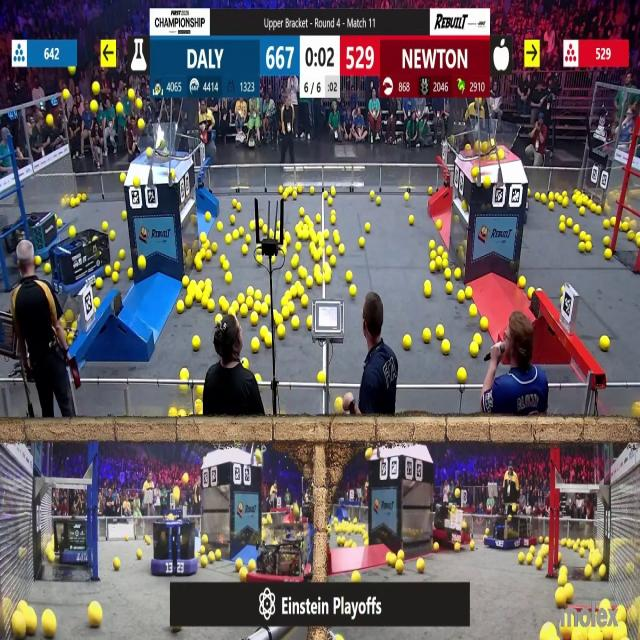ball_airborne: (482, 141, 492, 154), (173, 488, 180, 504), (93, 83, 101, 96), (92, 102, 99, 114), (63, 90, 70, 102), (291, 504, 298, 516), (129, 90, 136, 101), (46, 114, 52, 126), (138, 119, 145, 129), (485, 176, 491, 187), (136, 99, 142, 110), (116, 104, 122, 115), (182, 472, 188, 483), (498, 149, 504, 160), (365, 448, 371, 459), (491, 152, 498, 161), (146, 147, 152, 157), (471, 168, 477, 178), (134, 177, 140, 187), (512, 503, 518, 512), (474, 142, 479, 151), (455, 489, 460, 498), (465, 144, 470, 152)
ball_ground: (42, 614, 56, 639), (90, 604, 103, 629), (27, 616, 38, 636), (540, 625, 553, 639), (564, 586, 574, 604), (556, 591, 565, 609), (558, 569, 567, 585), (600, 337, 609, 352), (458, 367, 467, 381), (191, 337, 199, 352), (336, 396, 344, 411), (443, 340, 451, 354), (417, 559, 425, 573), (402, 337, 410, 351), (250, 312, 258, 326), (252, 339, 260, 353), (395, 560, 403, 574), (352, 570, 361, 582), (386, 554, 395, 566), (297, 268, 306, 280), (424, 282, 431, 297), (438, 325, 446, 338), (469, 344, 477, 357), (598, 565, 606, 578), (240, 568, 248, 581), (138, 256, 146, 269), (220, 301, 228, 314), (274, 311, 282, 324), (278, 324, 285, 338), (196, 290, 203, 304), (47, 550, 54, 564), (177, 302, 185, 314), (318, 372, 326, 384), (468, 306, 476, 318), (180, 367, 188, 379), (482, 317, 489, 330), (291, 316, 298, 329), (423, 328, 430, 341), (586, 565, 593, 578), (454, 269, 462, 280), (446, 283, 454, 294), (194, 385, 202, 396), (465, 287, 472, 299), (302, 295, 309, 307), (208, 300, 215, 312), (285, 272, 292, 284), (111, 272, 118, 284), (241, 306, 248, 318), (323, 273, 330, 285), (282, 308, 289, 320), (307, 239, 314, 251), (262, 306, 270, 316), (314, 265, 322, 275), (246, 296, 254, 306), (252, 303, 260, 313), (267, 336, 273, 349), (335, 232, 341, 245), (519, 277, 526, 288), (224, 273, 231, 284), (307, 277, 314, 288), (291, 256, 298, 267), (329, 255, 336, 266), (458, 290, 465, 301), (202, 556, 209, 567), (445, 269, 452, 280), (604, 249, 611, 260), (535, 558, 542, 569), (185, 295, 192, 306), (105, 267, 112, 278), (316, 275, 323, 286), (69, 225, 76, 236), (290, 286, 297, 297), (204, 286, 211, 297), (308, 317, 314, 329), (114, 558, 120, 570), (97, 278, 103, 290), (195, 260, 201, 272), (237, 558, 243, 570), (170, 409, 178, 418), (302, 232, 310, 241), (339, 245, 346, 255), (473, 335, 480, 345), (396, 552, 403, 562), (249, 560, 256, 570), (254, 290, 261, 300), (628, 232, 635, 242), (314, 252, 321, 262), (572, 223, 579, 233), (259, 327, 266, 337), (526, 555, 533, 565), (347, 272, 353, 283), (350, 285, 356, 296), (586, 242, 592, 253), (288, 304, 294, 315), (284, 233, 290, 244), (541, 544, 547, 555), (363, 222, 370, 231), (109, 232, 116, 241), (205, 251, 212, 260), (233, 303, 240, 312), (180, 383, 187, 392), (318, 239, 325, 248), (182, 277, 188, 287), (358, 238, 364, 248), (604, 237, 610, 247), (432, 541, 438, 551), (94, 297, 100, 307), (222, 262, 228, 272), (118, 249, 124, 259), (578, 242, 584, 252), (215, 551, 221, 561), (225, 235, 231, 245), (519, 554, 525, 564), (201, 234, 207, 244), (430, 263, 436, 273), (44, 264, 50, 274), (250, 220, 256, 230), (297, 286, 303, 296), (246, 235, 252, 245), (239, 293, 245, 303), (534, 191, 540, 201), (202, 534, 208, 544), (610, 217, 616, 227), (429, 240, 435, 250), (276, 232, 282, 242), (209, 553, 215, 563), (310, 232, 316, 242), (329, 187, 335, 197), (578, 549, 584, 559), (311, 246, 317, 256), (189, 279, 195, 289), (256, 219, 262, 229), (247, 288, 254, 296), (129, 269, 134, 280), (528, 287, 533, 298), (316, 214, 322, 223), (212, 242, 218, 251), (102, 221, 108, 230), (266, 294, 272, 303), (298, 208, 304, 217), (579, 233, 585, 242), (120, 211, 126, 220), (36, 256, 42, 265), (281, 296, 287, 305), (547, 191, 553, 200), (326, 246, 332, 255), (604, 219, 610, 228), (216, 314, 222, 323), (220, 254, 226, 263), (199, 280, 205, 289), (435, 256, 441, 265), (596, 206, 602, 215), (296, 232, 302, 241), (206, 212, 212, 221), (555, 191, 561, 200), (556, 554, 562, 563), (269, 231, 275, 240), (243, 245, 248, 255), (560, 222, 565, 232), (256, 254, 261, 264), (244, 359, 249, 369), (295, 242, 300, 252), (444, 257, 449, 267), (179, 411, 186, 418), (114, 264, 120, 272), (435, 220, 441, 228), (566, 218, 572, 226), (547, 202, 553, 210), (255, 375, 261, 383), (430, 250, 436, 258), (201, 544, 207, 552), (282, 191, 288, 199), (323, 190, 329, 198), (291, 190, 297, 198), (80, 192, 86, 200), (469, 540, 475, 548), (410, 215, 415, 224), (324, 231, 329, 240), (455, 542, 460, 551), (234, 232, 239, 241), (264, 224, 269, 233), (530, 544, 535, 553), (436, 245, 441, 254), (71, 200, 76, 209), (231, 216, 237, 223), (329, 209, 335, 216), (206, 279, 212, 286), (310, 187, 316, 194), (138, 550, 142, 560), (330, 215, 335, 223), (563, 199, 568, 207), (403, 192, 408, 200), (579, 207, 584, 215), (587, 234, 592, 242), (327, 199, 332, 207), (636, 233, 640, 243), (256, 247, 261, 255), (277, 220, 282, 228), (119, 174, 124, 182), (58, 219, 63, 227), (441, 250, 446, 258), (218, 221, 222, 230), (234, 201, 238, 210), (562, 190, 568, 196), (560, 216, 565, 223), (428, 187, 433, 194), (305, 216, 310, 223), (279, 186, 284, 193), (527, 189, 532, 196), (272, 255, 276, 263), (377, 198, 381, 206), (369, 190, 373, 198), (123, 534, 128, 540), (364, 539, 368, 546), (240, 226, 244, 233), (543, 536, 547, 543), (539, 536, 543, 543), (146, 536, 150, 542)
goal: (128, 126, 188, 159), (468, 122, 520, 160)
robot_blue: (52, 233, 111, 297), (3, 215, 62, 264), (152, 514, 198, 574), (56, 518, 90, 563), (485, 514, 522, 549)
robot_red: (257, 518, 308, 580), (432, 504, 471, 550)
